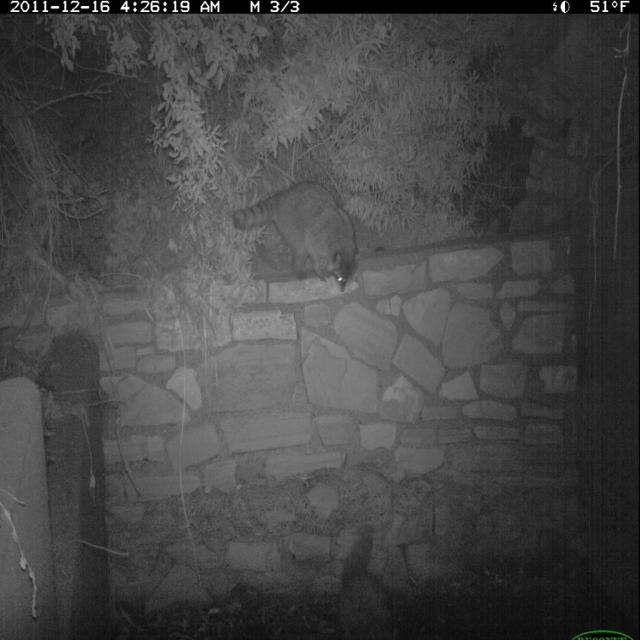raccoon: (231, 175, 365, 299)
